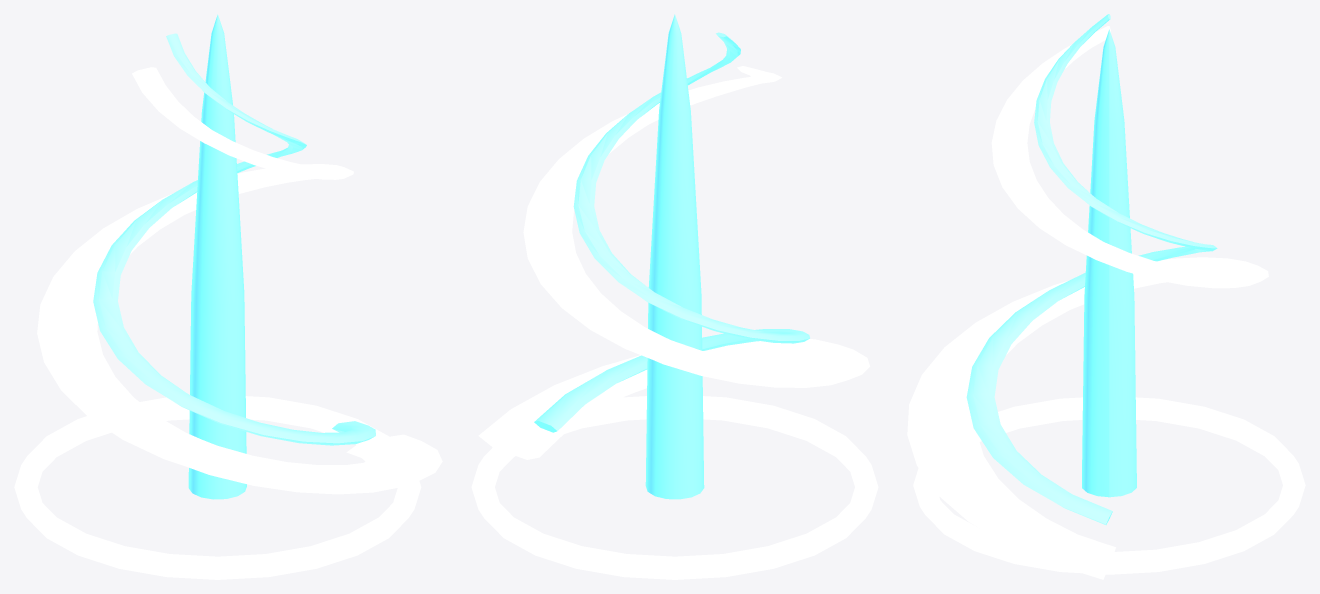
The model's file is vfx-mesh-library-whirl-ribbon-45b583d6__21887.glb.
The picture shows the model from 3 angles, left to right: view 1: azimuth 30°, elevation 25°; view 2: azimuth 150°, elevation 25°; view 3: azimuth 270°, elevation 25°; orthographic projection. The views are drawn at different scales.
Parts seen in each view (by area): view 1: whirl-ribbon; view 2: whirl-ribbon; view 3: whirl-ribbon.
Boxes of the visible parts, x1,y1,x2,y2 form: whirl-ribbon: (14, 14, 442, 579); whirl-ribbon: (471, 14, 878, 579); whirl-ribbon: (907, 14, 1305, 579).
Size of the model in its own units: 0.8159 by 0.9991 by 0.7754.
